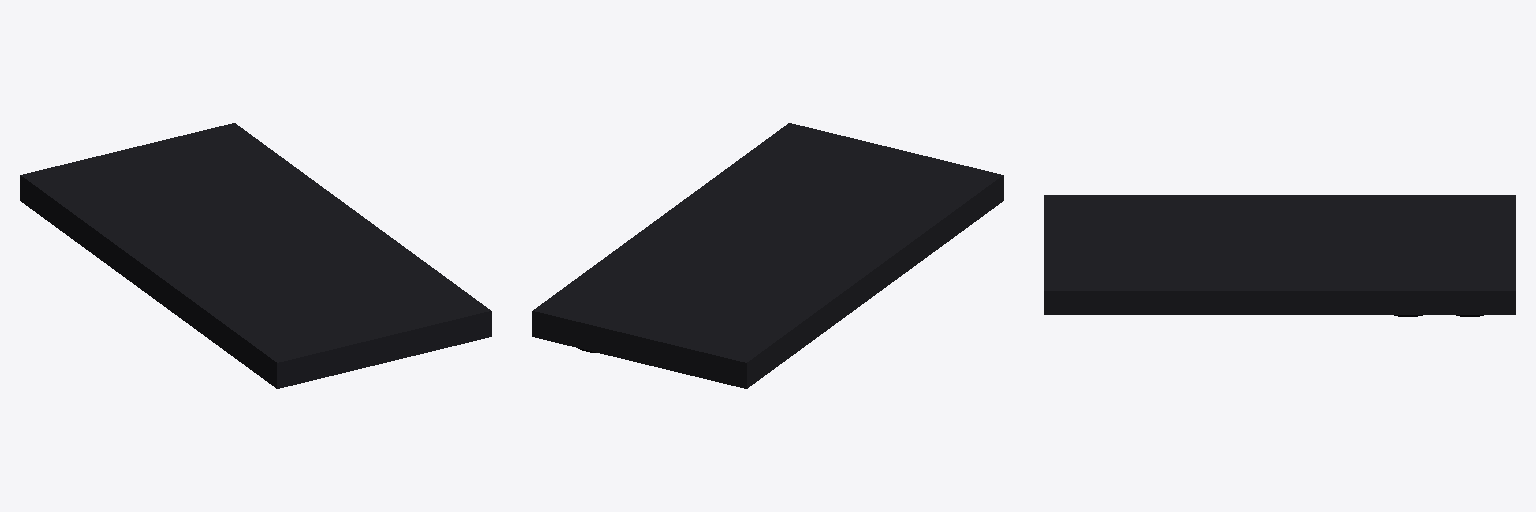
robot.urdf — iphone_15_pro:
<?xml version="1.0"?>
<!-- iPhone 15 Pro: generated by imuninn from Apple's dimensional drawings (iphone-frames dataset). Frames: device = display centre on the front glass (x right, y top, z out of the screen); cam_*_optical = OpenCV axes. Geometry and mass are approximate. -->
<robot name="iphone_15_pro">
  <material name="iphone_body">
    <color rgba="0.15 0.15 0.17 1" />
  </material>
  <material name="iphone_lens">
    <color rgba="0.05 0.05 0.06 1" />
  </material>
  <link name="device">
    <visual name="body">
      <origin xyz="0 0 -0.004125" rpy="0 0 0" />
      <geometry>
        <box size="0.0706 0.14661 0.00825" />
      </geometry>
      <material name="iphone_body" />
    </visual>
    <collision name="body">
      <origin xyz="0 0 -0.004125" rpy="0 0 0" />
      <geometry>
        <box size="0.0706 0.14661 0.00825" />
      </geometry>
    </collision>
    <visual name="lens_ultra_wide">
      <origin xyz="0.02113 0.059135 -0.01014" rpy="0 0 0" />
      <geometry>
        <cylinder radius="0.0081" length="0.00378" />
      </geometry>
      <material name="iphone_lens" />
    </visual>
    <visual name="lens_main">
      <origin xyz="0.02113 0.039895 -0.01014" rpy="0 0 0" />
      <geometry>
        <cylinder radius="0.0081" length="0.00378" />
      </geometry>
      <material name="iphone_lens" />
    </visual>
    <visual name="lens_telephoto">
      <origin xyz="0.00314 0.049515 -0.01014" rpy="0 0 0" />
      <geometry>
        <cylinder radius="0.0081" length="0.00378" />
      </geometry>
      <material name="iphone_lens" />
    </visual>
    <inertial>
      <origin xyz="0 0 -0.004125" rpy="0 0 0" />
      <mass value="0.196" />
      <inertia ixx="0.000352188" ixy="0" ixz="0" iyy="8.25229e-05" iyz="0" izz="0.000432488" />
    </inertial>
  </link>
  <link name="magsafe" />
  <joint name="device_to_magsafe" type="fixed">
    <parent link="device" />
    <child link="magsafe" />
    <origin xyz="0 -0.001675 -0.00825" rpy="3.14159265 0 3.14159265" />
  </joint>
  <link name="cam_ultra_wide_optical" />
  <joint name="device_to_cam_ultra_wide_optical" type="fixed">
    <parent link="device" />
    <child link="cam_ultra_wide_optical" />
    <origin xyz="0.02113 0.059135 -0.01203" rpy="3.14159265 0 -1.57079633" />
  </joint>
  <link name="cam_main_optical" />
  <joint name="device_to_cam_main_optical" type="fixed">
    <parent link="device" />
    <child link="cam_main_optical" />
    <origin xyz="0.02113 0.039895 -0.01203" rpy="3.14159265 0 -1.57079633" />
  </joint>
  <link name="cam_telephoto_optical" />
  <joint name="device_to_cam_telephoto_optical" type="fixed">
    <parent link="device" />
    <child link="cam_telephoto_optical" />
    <origin xyz="0.00314 0.049515 -0.01203" rpy="3.14159265 0 -1.57079633" />
  </joint>
  <link name="cam_front_optical" />
  <joint name="device_to_cam_front_optical" type="fixed">
    <parent link="device" />
    <child link="cam_front_optical" />
    <origin xyz="0.00731 0.065625 0" rpy="0 0 1.57079633" />
  </joint>
  <link name="imu" />
  <joint name="device_to_imu" type="fixed">
    <parent link="device" />
    <child link="imu" />
    <origin xyz="0 0 0" rpy="0 0 0" />
  </joint>
</robot>

--- Render facts (derived) ---
Views: 3 orthographic renders of the robot side by side, from view 1: azimuth 30°, elevation 25°; view 2: azimuth 150°, elevation 25°; view 3: azimuth 270°, elevation 25°.
Model iphone_15_pro with 7 links and 6 joints (6 fixed), rooted at device, posed every joint at zero.
Visible links, largest first — view 1: device; view 2: device; view 3: device.
Link boxes in pixels (x1=…): device: x1=20, y1=123, x2=491, y2=388; device: x1=532, y1=123, x2=1003, y2=388; device: x1=1044, y1=195, x2=1515, y2=316.
Bounding box of the posed robot: 0.0706 × 0.1466 × 0.012 m (x, y, z).
Geometry: primitives only (box / cylinder / sphere), no mesh files.
